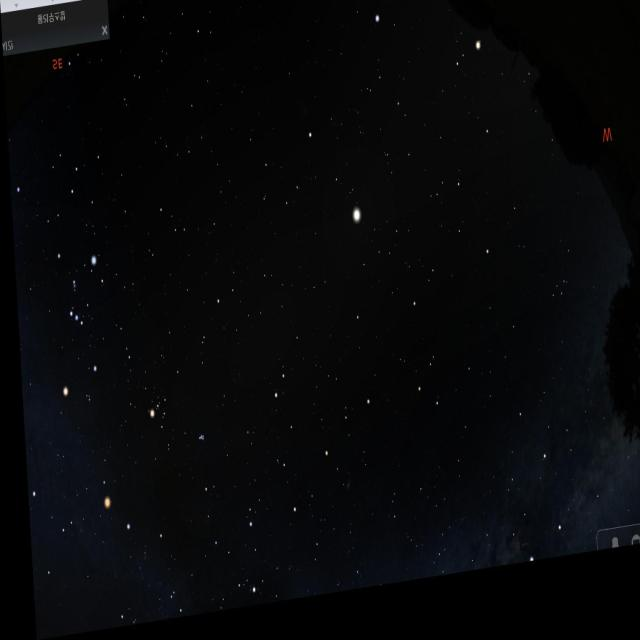cygnus: (503, 404, 611, 579)
orion: (43, 246, 103, 403)
pleiades: (188, 429, 202, 455)
taurus: (138, 357, 204, 466)
